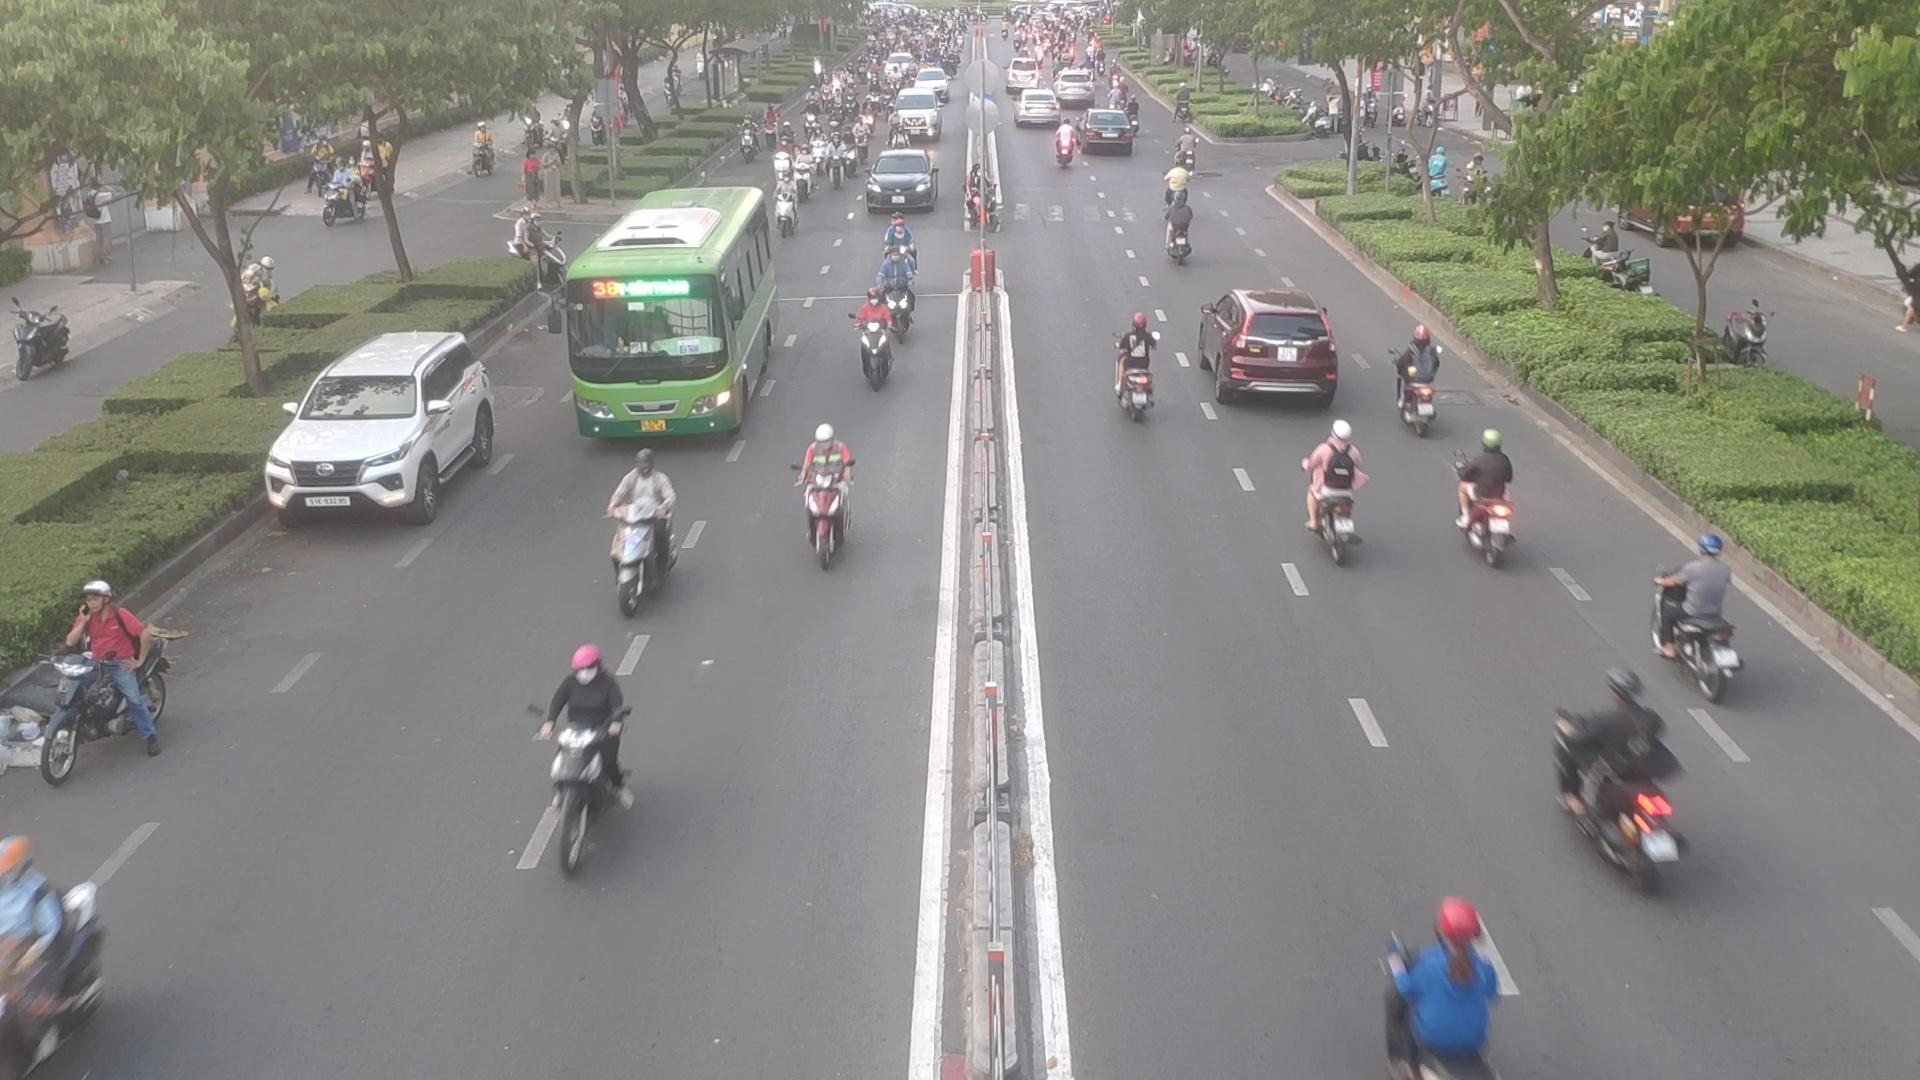bus: (567, 212, 794, 448)
car: (268, 331, 513, 527), (1201, 285, 1341, 410), (858, 150, 940, 216), (1014, 92, 1063, 131)
motorbike: (11, 583, 169, 783), (1556, 680, 1702, 884), (1371, 895, 1534, 1075), (526, 649, 637, 866), (0, 833, 96, 1076), (1651, 542, 1750, 700), (786, 425, 866, 563), (608, 462, 684, 604), (1298, 431, 1374, 562), (1452, 431, 1524, 556), (844, 286, 915, 390), (1102, 306, 1166, 419), (1395, 326, 1460, 434), (1159, 196, 1197, 264), (1050, 125, 1080, 169)
